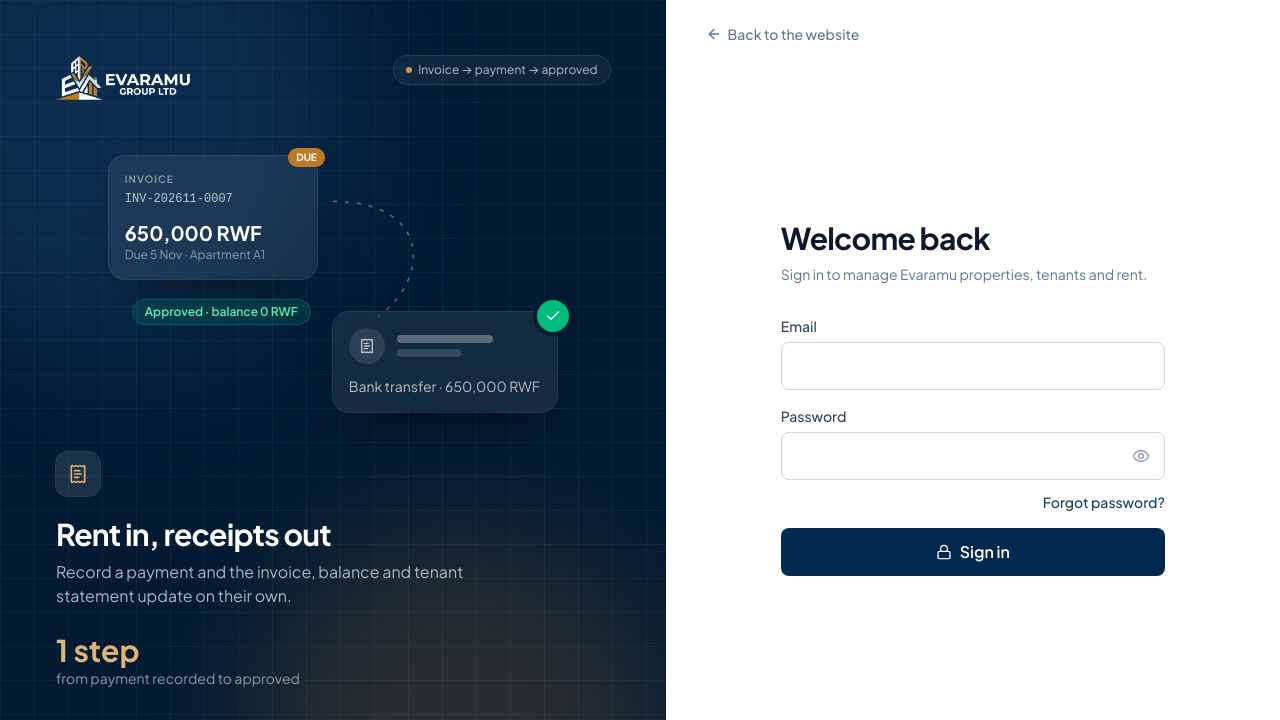
LoginPage › validates input before calling the API
The image size is (1280, 720).
Step 1. Click the button "Sign in" → coordinates (973, 552), box [781, 528, 1165, 576]
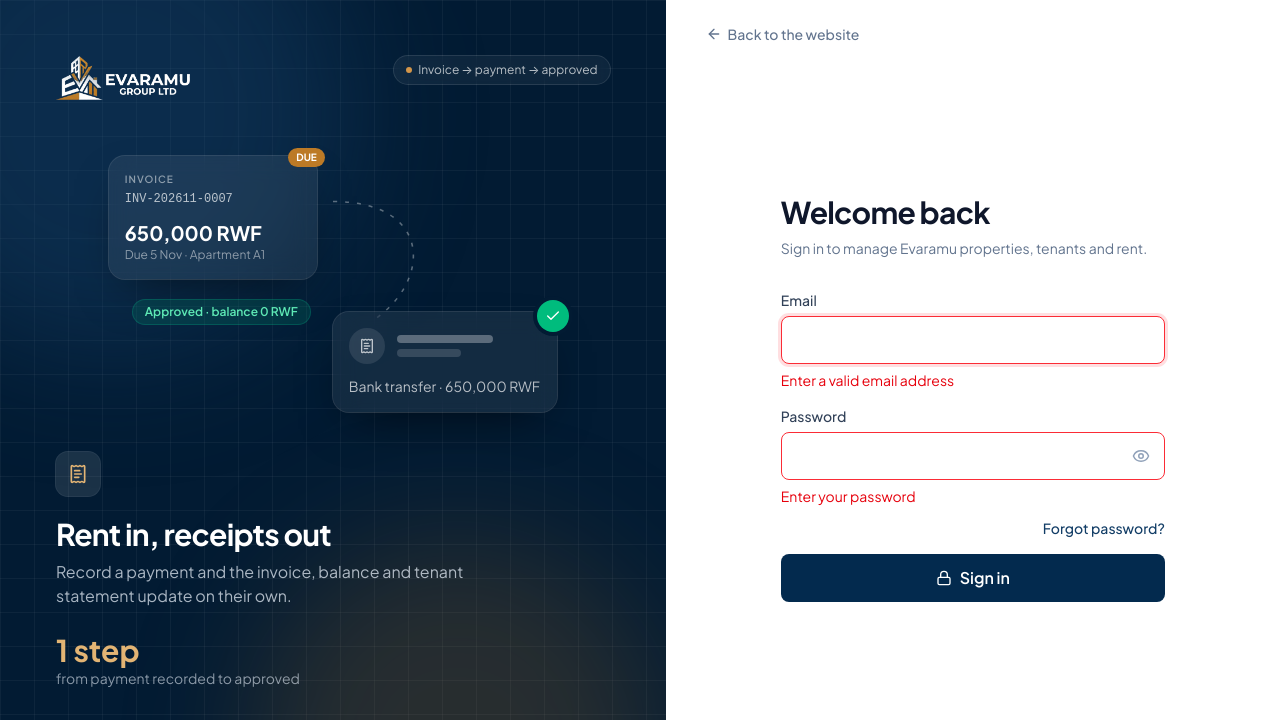
Check: the text "Enter a valid email address" is shown, box [781, 371, 954, 389]
Check: the text "Enter your password" is shown, box [781, 487, 916, 505]
